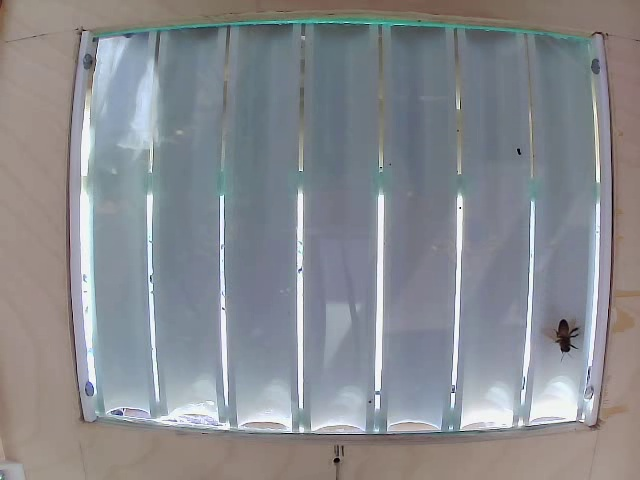bee: (543, 303, 580, 358)
